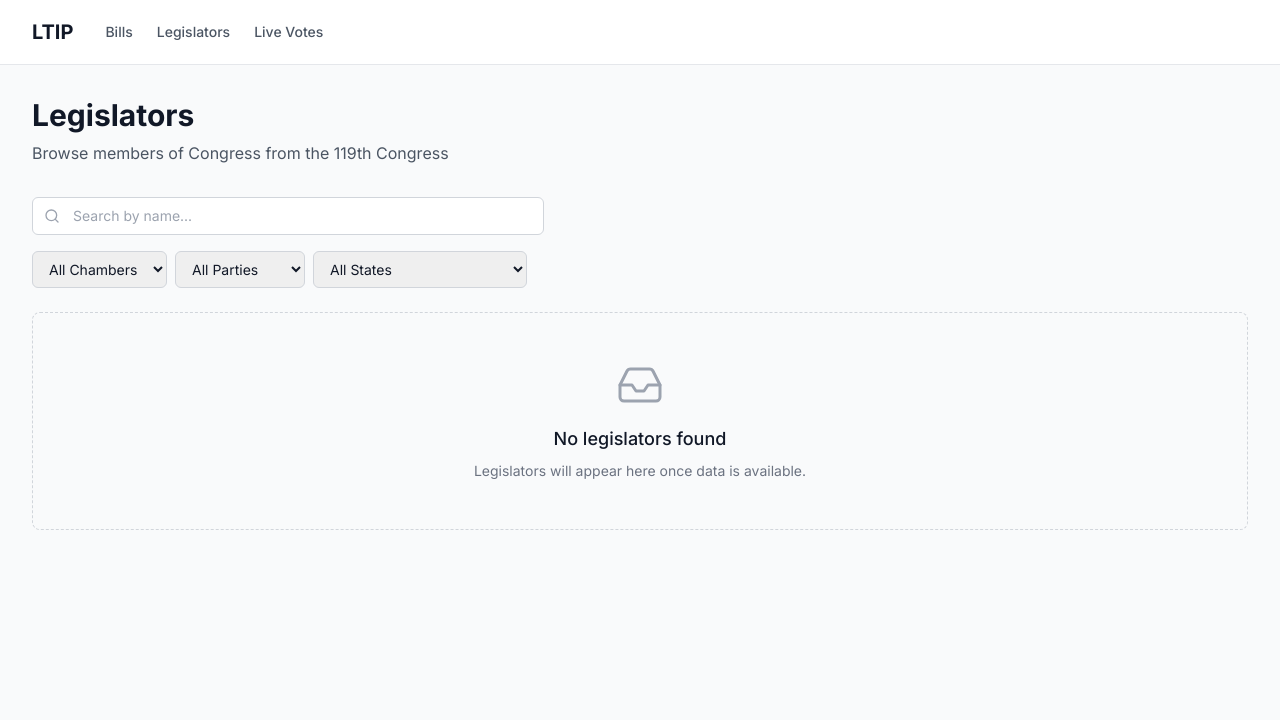
it: LegislatorsPageClient › Empty State › should show search-specific empty state when filters active
Note: Apply search filter
Type "NonexistentName" into the search field with placeholder "Search by name...".
click(288, 216); type("NonexistentName")  # box [32, 197, 544, 235]
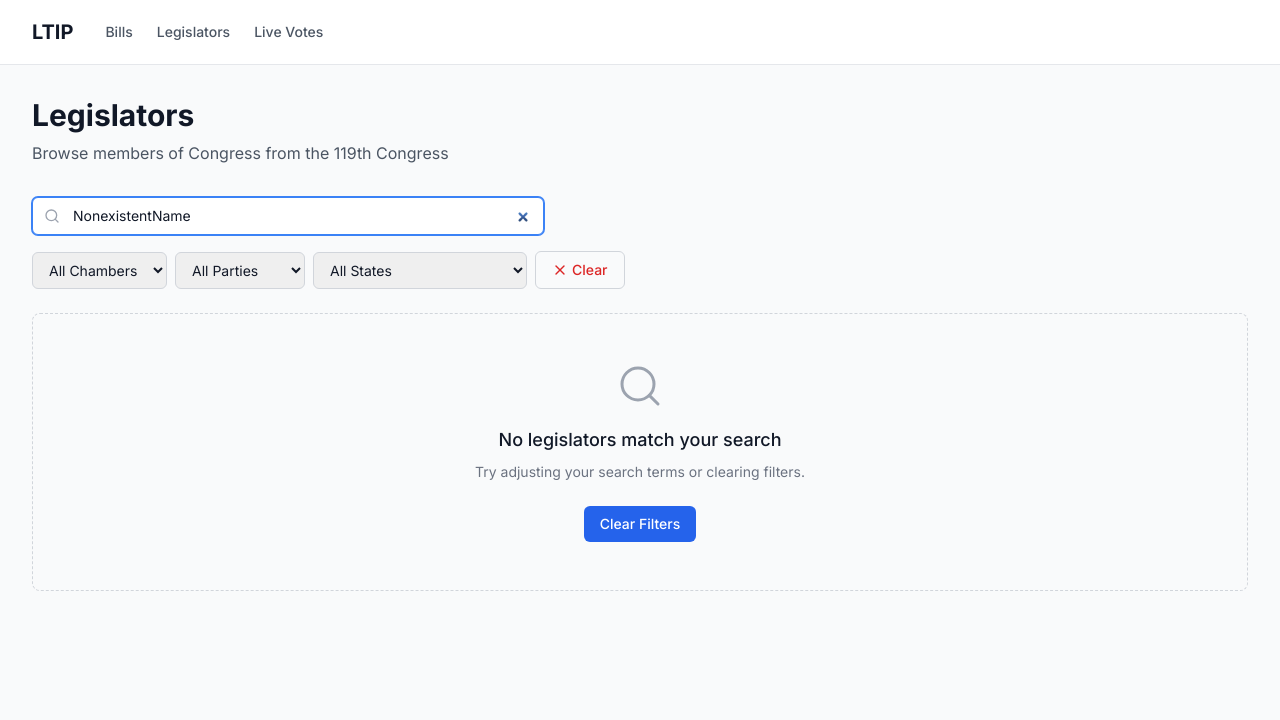
Expected: the heading "No legislators match your search" is shown, [498, 426, 782, 454]
